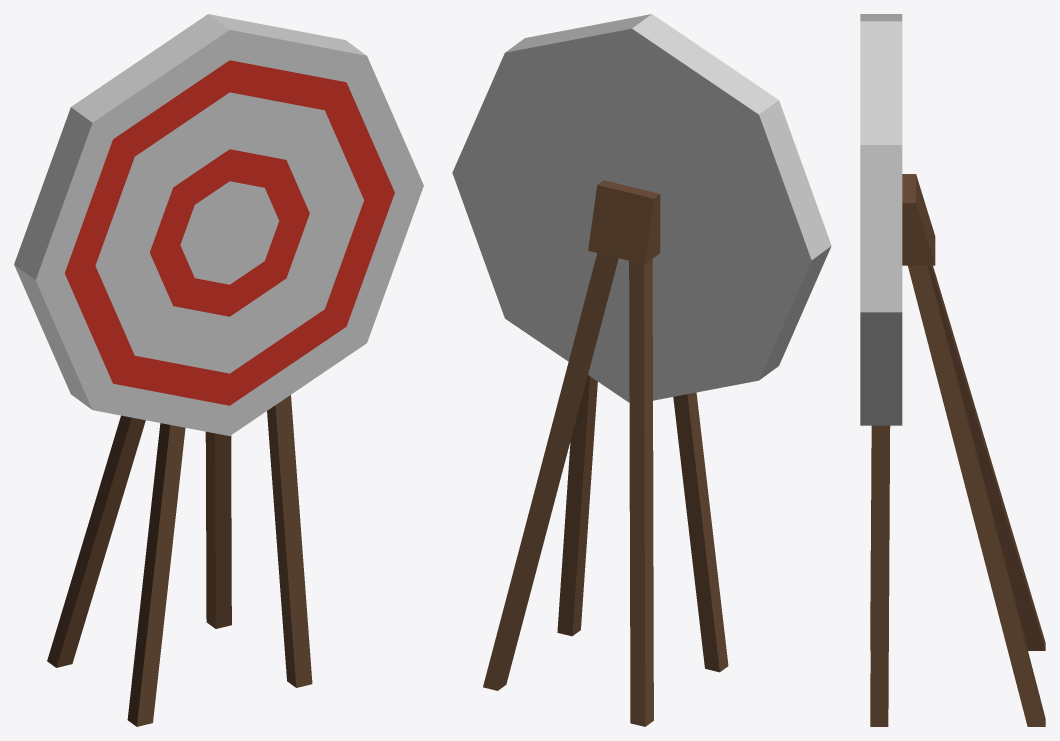
Rendered from Target_mat.fbx.
3 views of the same model, side by side, from view 1: azimuth 30°, elevation 25°; view 2: azimuth 150°, elevation 25°; view 3: azimuth 270°, elevation 25° (orthographic). The views are drawn at different scales.
Visible parts, largest first — view 1: Target_mat; view 2: Target_mat; view 3: Target_mat.
Boxes of the visible parts, x1=… form: Target_mat: x1=14, y1=14, x2=423, y2=726; Target_mat: x1=452, y1=14, x2=831, y2=726; Target_mat: x1=860, y1=14, x2=1045, y2=726.
Bounding box in the file's own units: 46.37 × 77.54 × 19.65.
